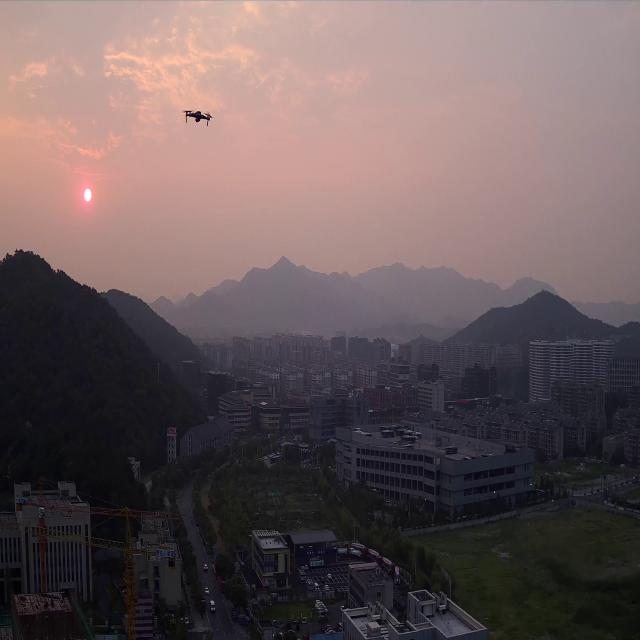drone: (180, 109, 213, 126)
